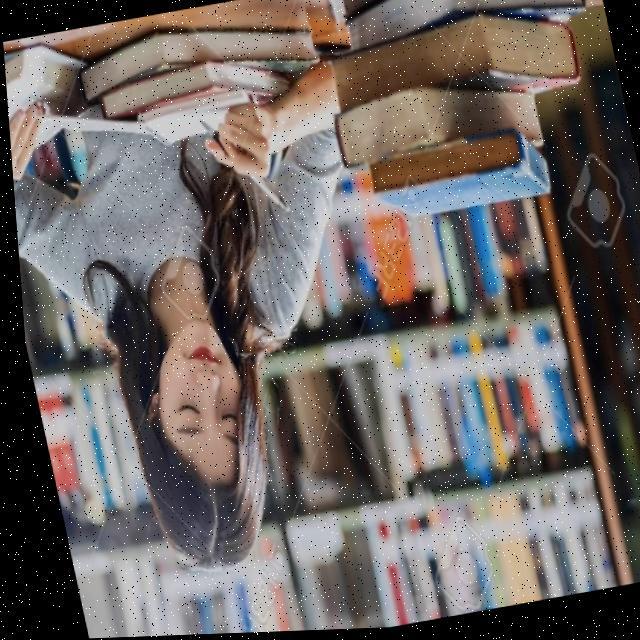studying-person: (0, 0, 433, 610)
